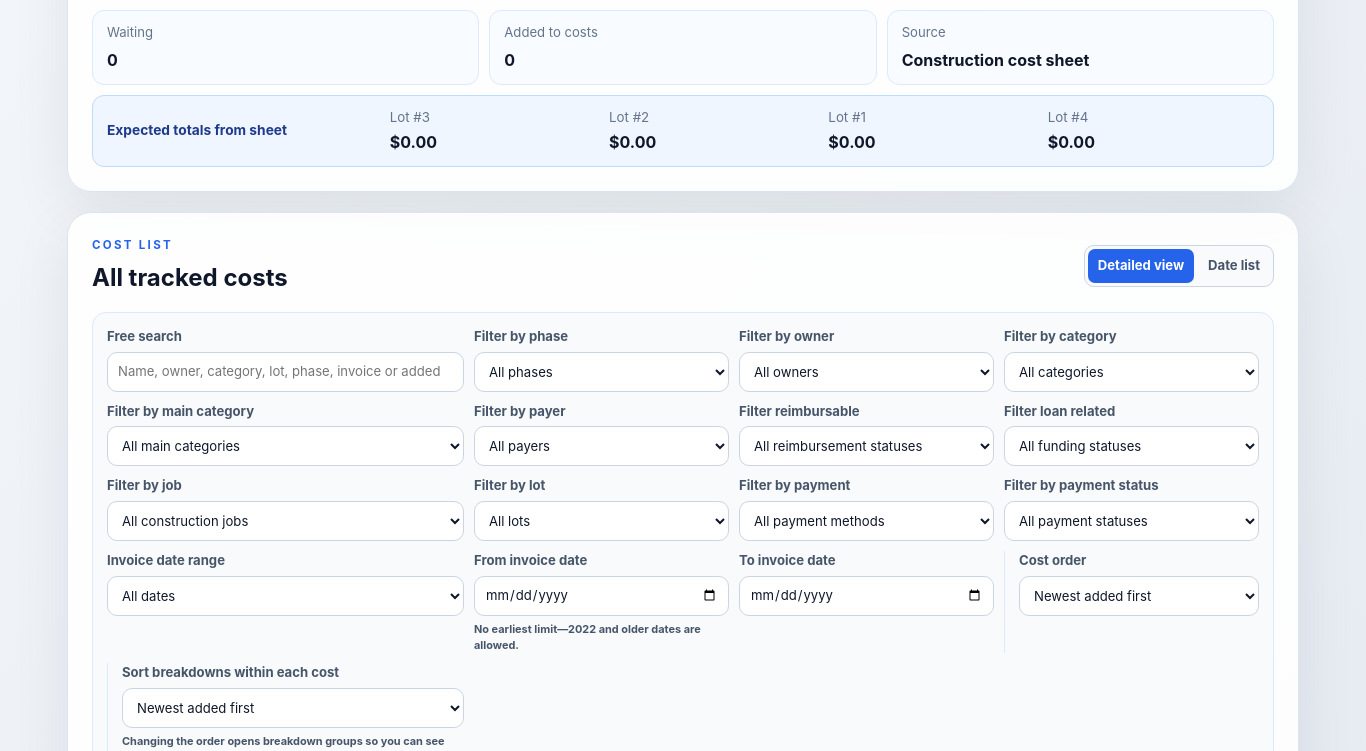
Scenario: CostPage invoice extraction › creates a detailed report from the active filters without adding breakdowns to the accounting total
The image size is (1366, 751).
(page scrolled)
Select "Development" in the dropdown named "Filter costs by phase" at (602, 372), box [474, 352, 729, 392]
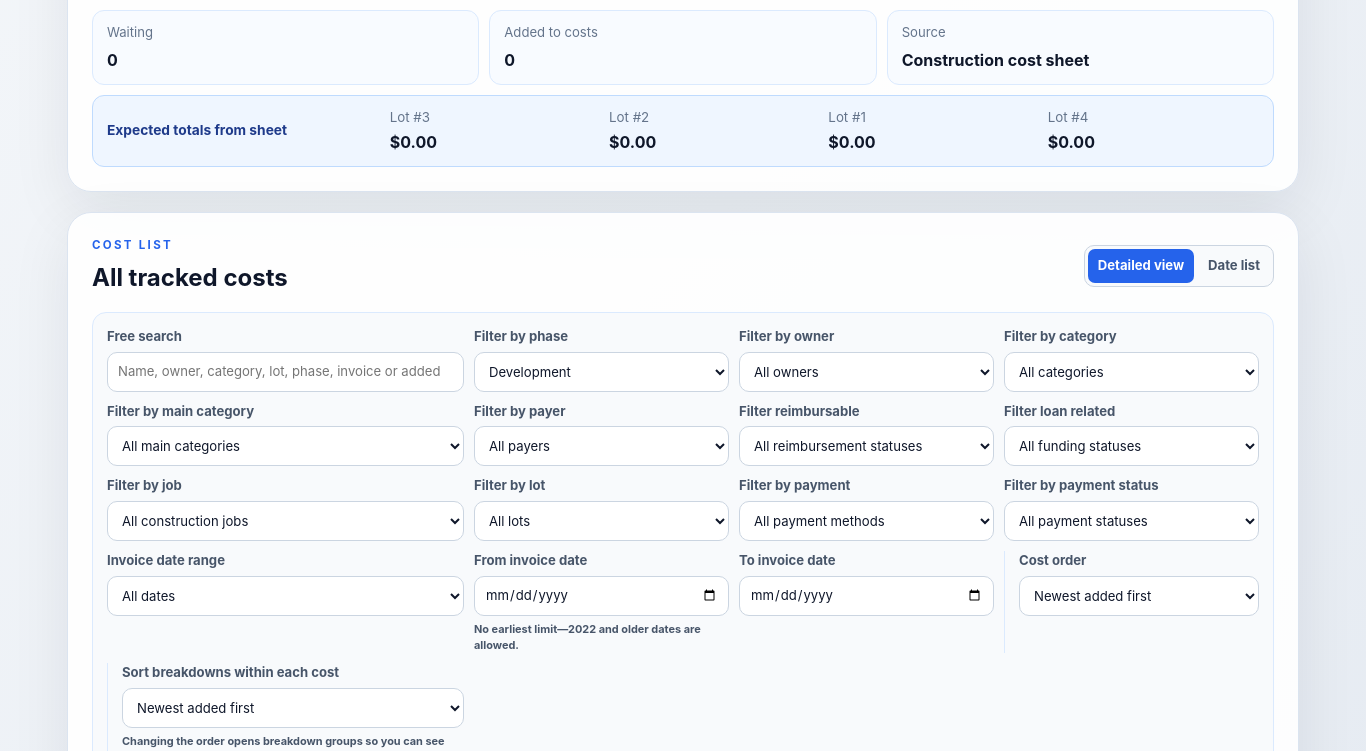
Type "2022-01-01" into the date field named "Filter costs from invoice date".
click(602, 596); type("2022-01-01")  # box [474, 576, 729, 616]
(page scrolled)
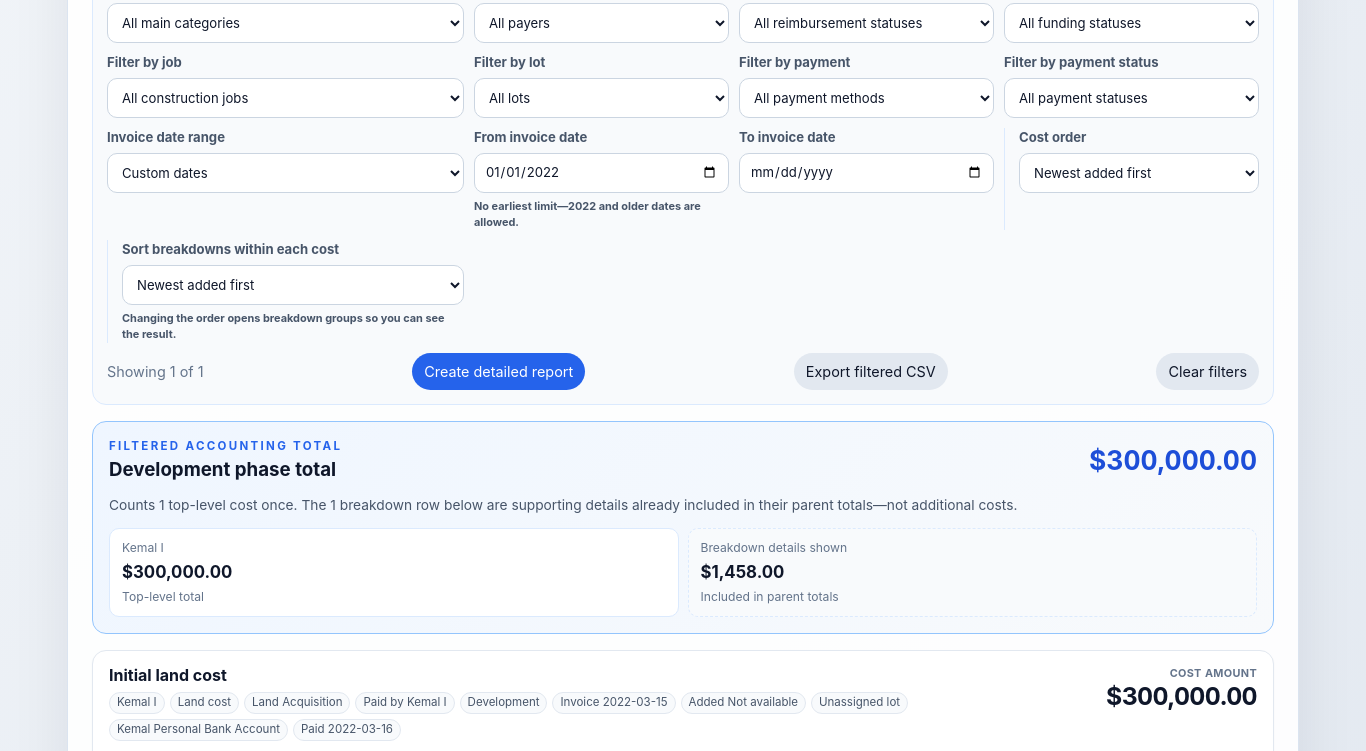
Click the button "Create detailed report".
click(499, 372)  # box [412, 353, 585, 390]
(page scrolled)
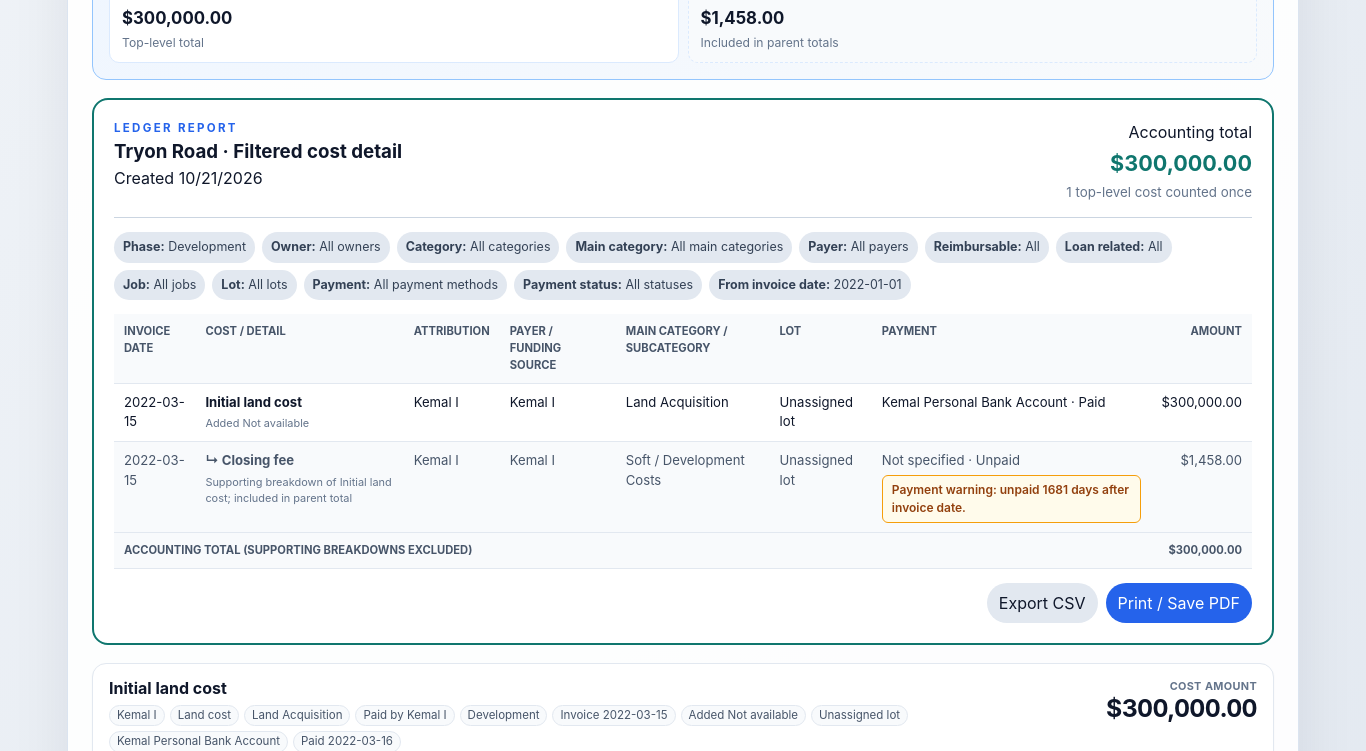
Result: the element named "Filtered cost report" shows "Tryon Road · Filtered cost detail"
Result: the element named "Applied report filters" shows "Phase: Development" at [114, 232, 1252, 300]
Result: the element named "Applied report filters" shows "From invoice date: 2022-01-01" at [114, 232, 1252, 300]
